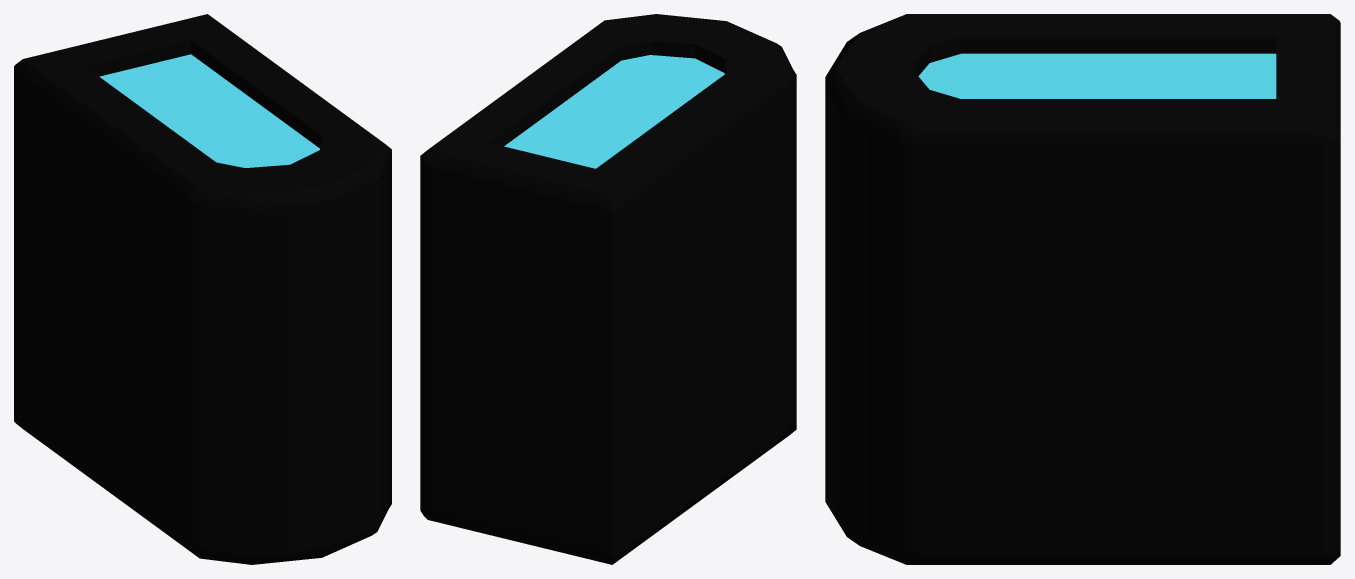
Rendered from SM_WallLight_002.FBX.
The picture shows the model from 3 angles, left to right: view 1: azimuth 30°, elevation 25°; view 2: azimuth 150°, elevation 25°; view 3: azimuth 270°, elevation 25°; orthographic projection. The views are drawn at different scales.
Parts seen in each view (by area): view 1: SM_WallLight_002; view 2: SM_WallLight_002; view 3: SM_WallLight_002.
Boxes of the visible parts, x1=… form: SM_WallLight_002: x1=14, y1=14, x2=391, y2=564; SM_WallLight_002: x1=420, y1=14, x2=796, y2=564; SM_WallLight_002: x1=825, y1=14, x2=1340, y2=564.
Bounding box in the file's own units: 9.34 × 17.46 × 16.56.
